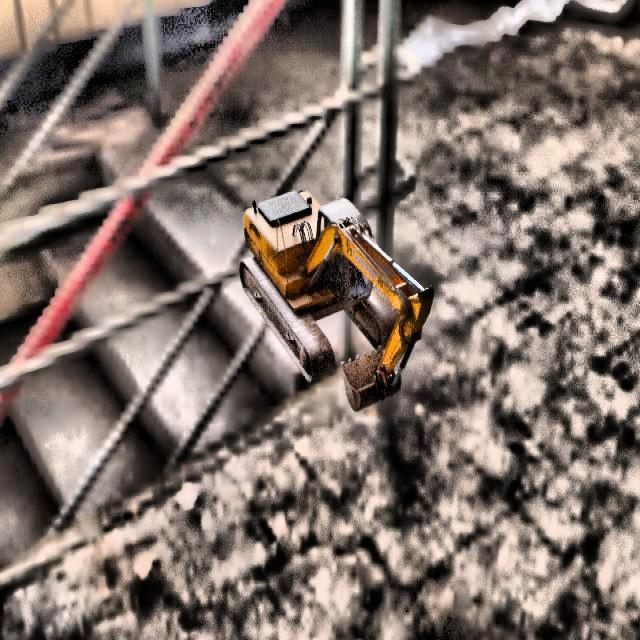excavator: (238, 188, 434, 412)
